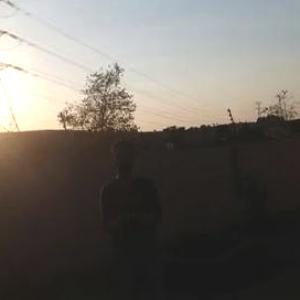follow: (95, 131, 169, 299)
